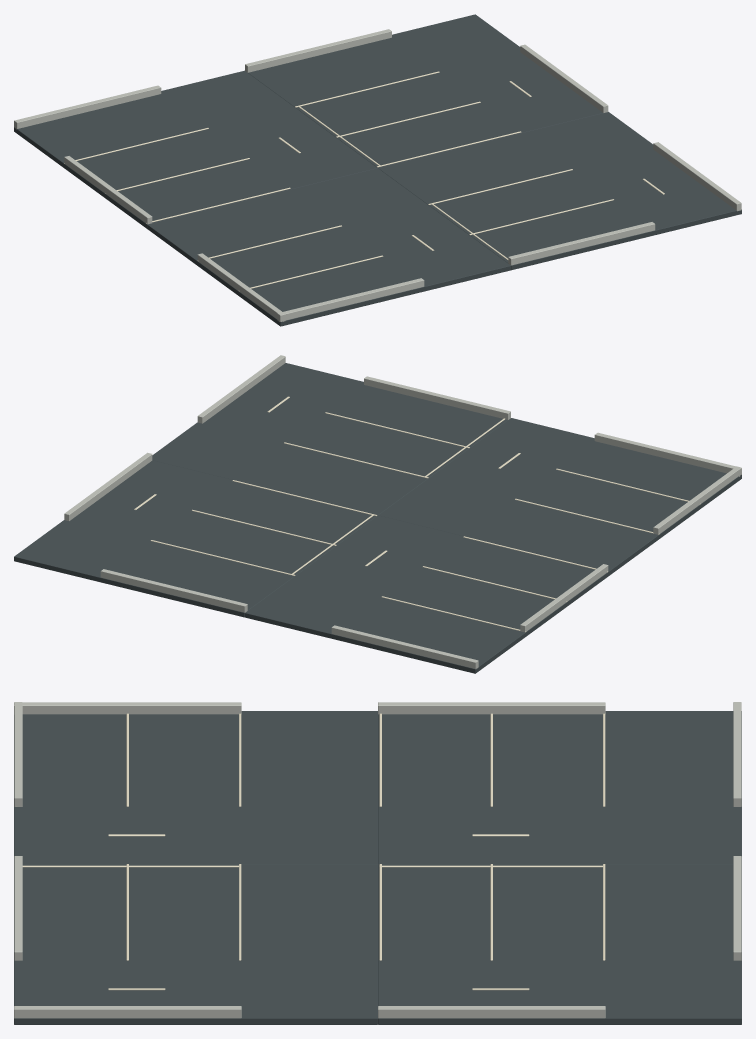
The model's file is facility.glb.
3 views of the same model, one above another, from view 1: azimuth 30°, elevation 25°; view 2: azimuth 150°, elevation 25°; view 3: azimuth 270°, elevation 25° (orthographic). The views are drawn at different scales.
Parts seen in each view (by area): view 1: FacilityCombinedMesh; view 2: FacilityCombinedMesh; view 3: FacilityCombinedMesh.
Part boxes in pixels (x1,y1,x2,y2): FacilityCombinedMesh: (14, 14, 741, 326); FacilityCombinedMesh: (14, 355, 741, 673); FacilityCombinedMesh: (14, 702, 741, 1024).
Size of the model in its own units: 16 by 0.375 by 16.
